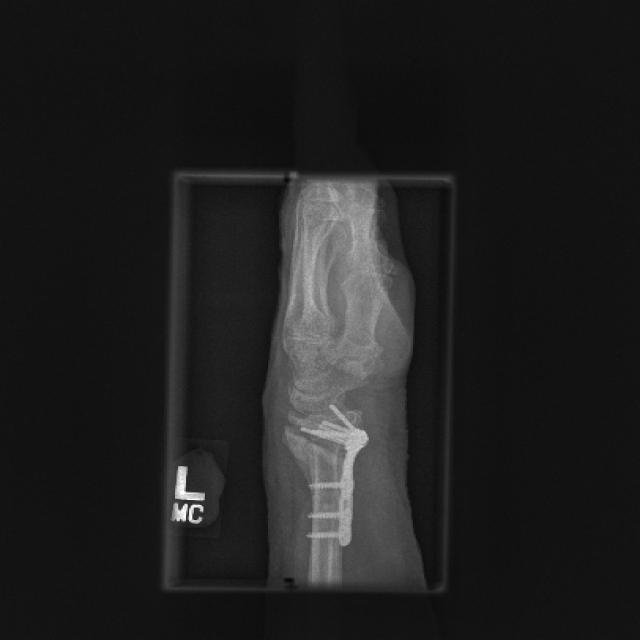wrist positive: (258, 394, 368, 481)
